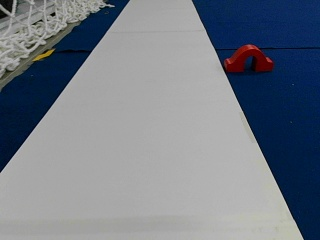bridge: (226, 44, 272, 71)
